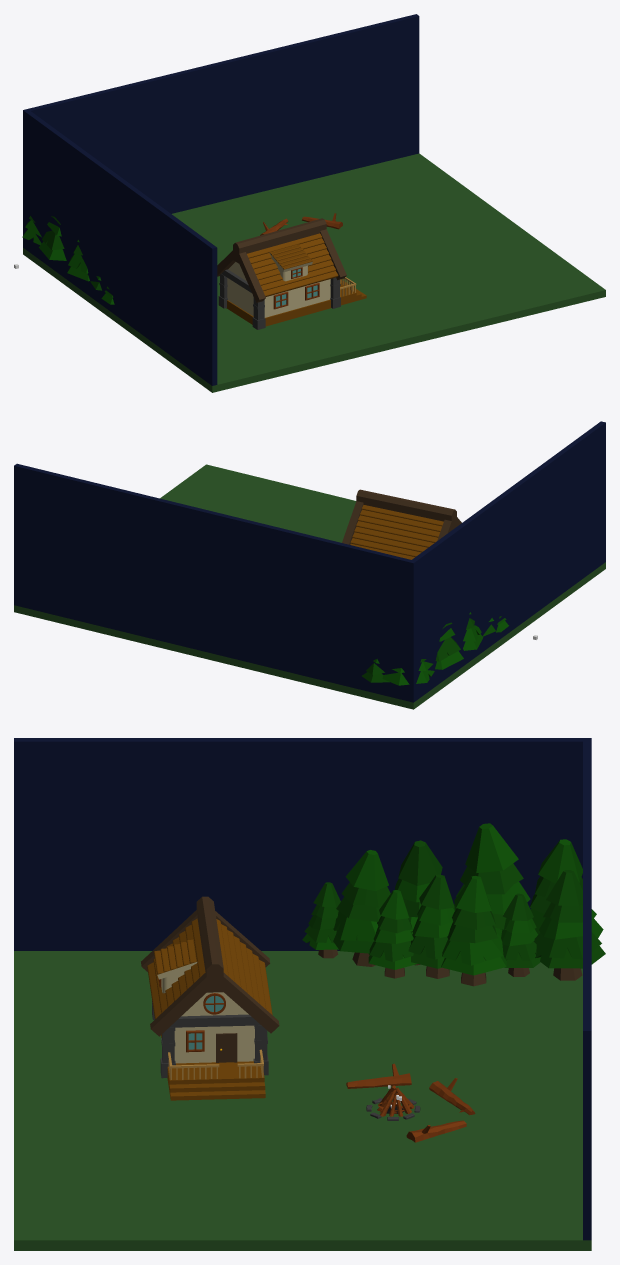
File: exterior.fbx
The picture shows the model from 3 angles, top to bottom: view 1: azimuth 30°, elevation 25°; view 2: azimuth 150°, elevation 25°; view 3: azimuth 270°, elevation 25°; orthographic projection. The views are drawn at different scales.
Visible parts, largest first — view 1: background, base, pleats.001, roof, pillars, Pine Tree.003, Cube.001; view 2: background, pleats.001, roof, Pine Tree.003, Pine Tree.001, Pine Tree.004; view 3: background, base, roof, Pine Tree.007, Pine Tree.008, pleats.001, Pine Tree.005, Pine Tree.003, Pine Tree.002, Pine Tree.006, Pine Tree, Pine Tree.001 (+7 smaller).
Part boxes in pixels (<box>): background: <box>23,14,605,392</box>; base: <box>226,262,366,326</box>; pleats.001: <box>247,233,338,296</box>; roof: <box>217,218,346,302</box>; pillars: <box>218,269,340,329</box>; Pine Tree.003: <box>39,216,66,260</box>; Cube.001: <box>269,244,312,269</box>; background: <box>14,421,605,709</box>; pleats.001: <box>350,505,443,559</box>; roof: <box>342,489,461,544</box>; Pine Tree.003: <box>435,622,463,669</box>; Pine Tree.001: <box>382,659,434,685</box>; Pine Tree.004: <box>463,612,483,650</box>; background: <box>14,738,591,1250</box>; base: <box>161,992,265,1100</box>; roof: <box>141,896,279,1036</box>; Pine Tree.007: <box>441,876,506,986</box>; Pine Tree.008: <box>533,870,605,980</box>; pleats.001: <box>147,918,272,1018</box>; Pine Tree.005: <box>333,850,390,966</box>; Pine Tree.003: <box>454,823,530,937</box>; Pine Tree.002: <box>408,874,455,978</box>; Pine Tree.006: <box>368,890,417,978</box>; Pine Tree: <box>500,893,540,976</box>; Pine Tree.001: <box>530,839,603,938</box>.
Size of the model in its own units: 6987 by 2100 by 5125.
